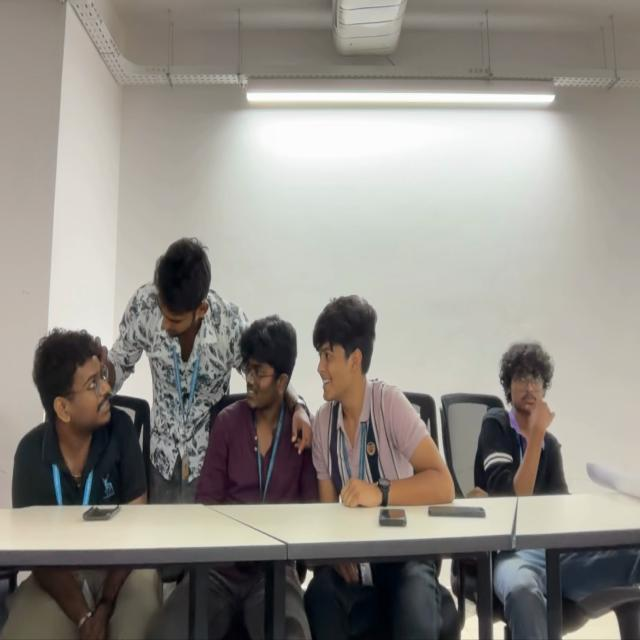Isolated: (475, 342, 568, 492)
socializing: (12, 234, 454, 508)
